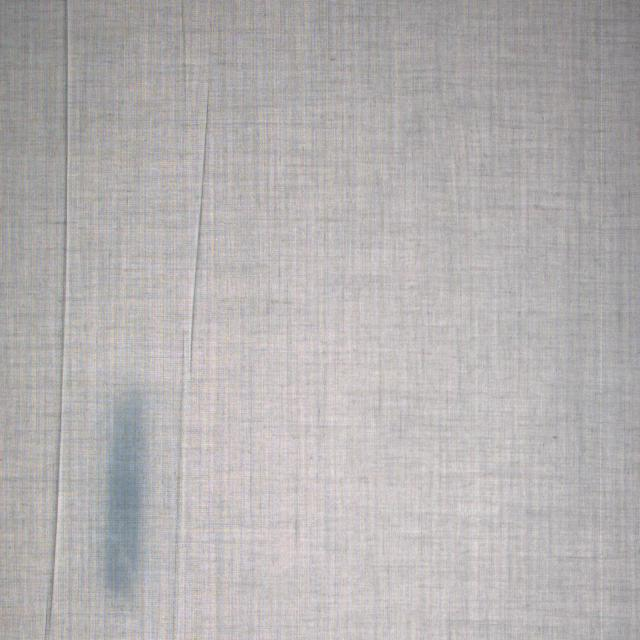dirty: (106, 388, 138, 594)
